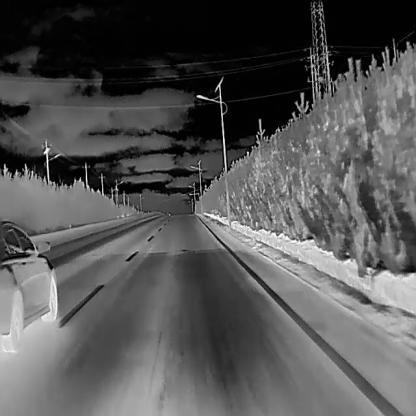car: (0, 219, 58, 353)
